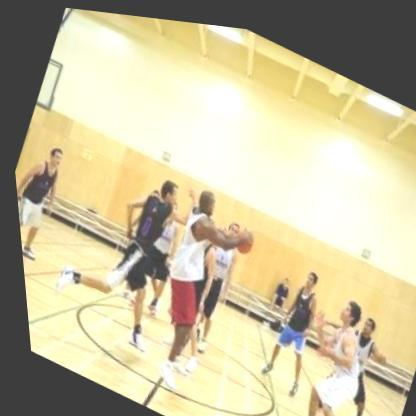basketball: (222, 216, 259, 257)
